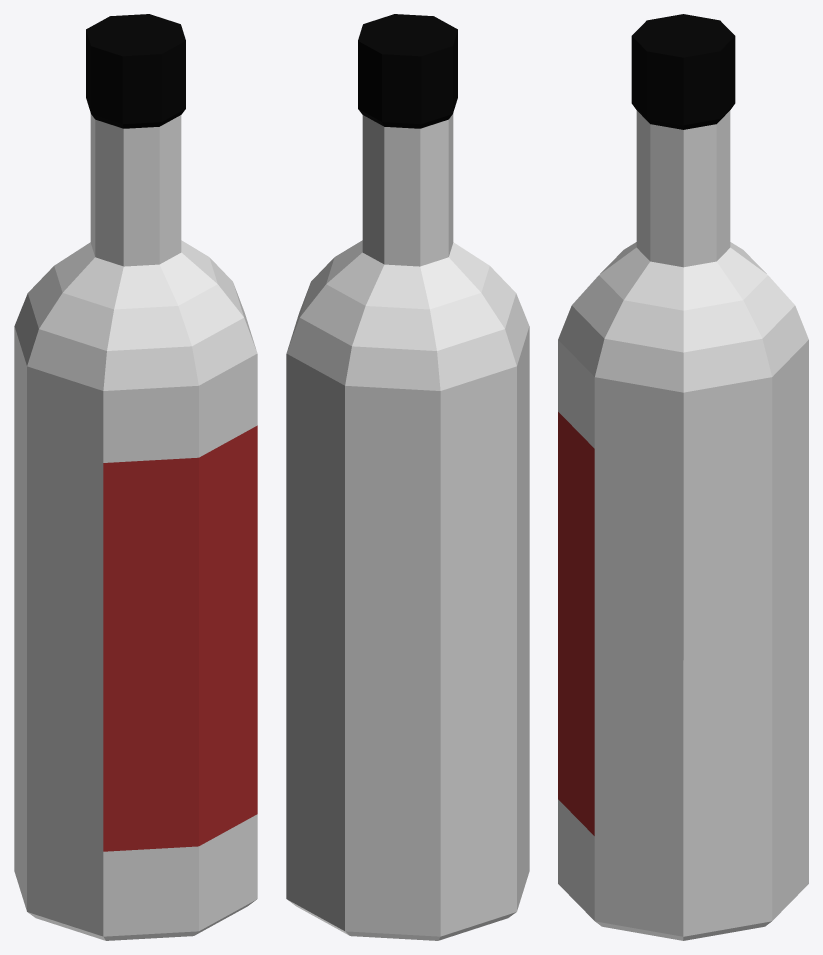
Rendered from Ma_Vinegar.fbx.
3 views of the same model, side by side, from view 1: azimuth 30°, elevation 25°; view 2: azimuth 150°, elevation 25°; view 3: azimuth 270°, elevation 25° (orthographic).
Parts seen in each view (by area): view 1: Ma_Vinegar; view 2: Ma_Vinegar; view 3: Ma_Vinegar.
Boxes of the visible parts, <box> form: Ma_Vinegar: <box>14,14,257,940</box>; Ma_Vinegar: <box>286,14,529,940</box>; Ma_Vinegar: <box>558,14,808,940</box>.
Size of the model in its own units: 58.83 by 58.83 by 222.
